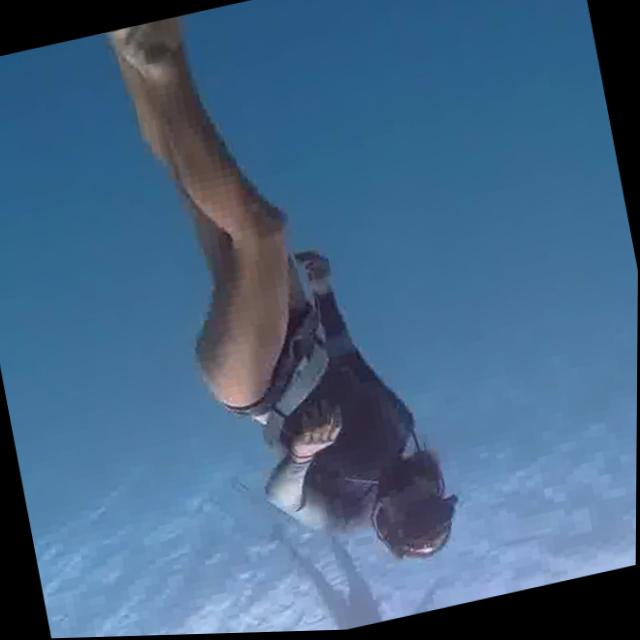human: (79, 0, 479, 616)
